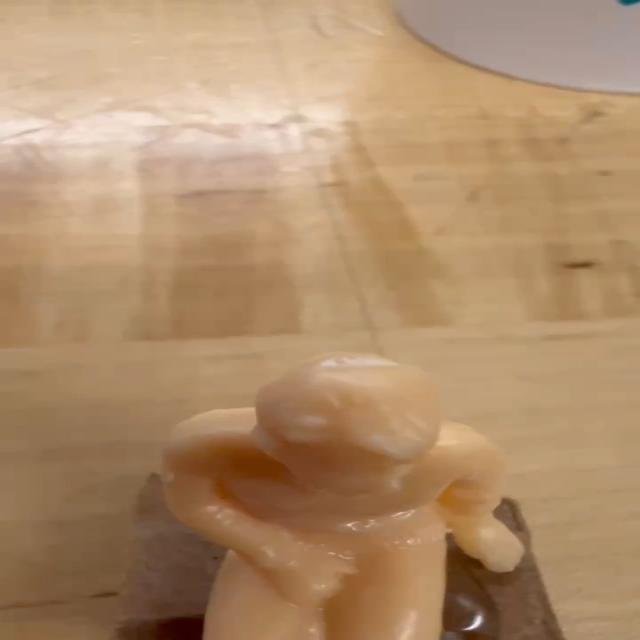Unauthorized: (135, 302, 640, 639)
